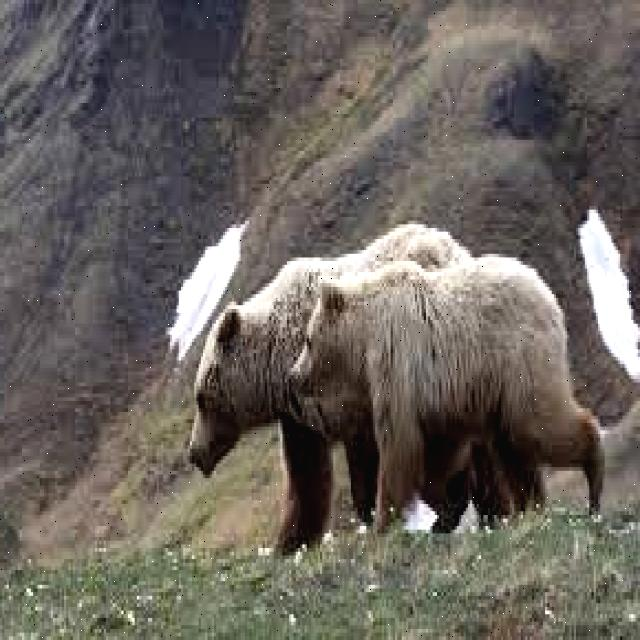bear: (296, 248, 592, 547), (182, 264, 286, 520)
